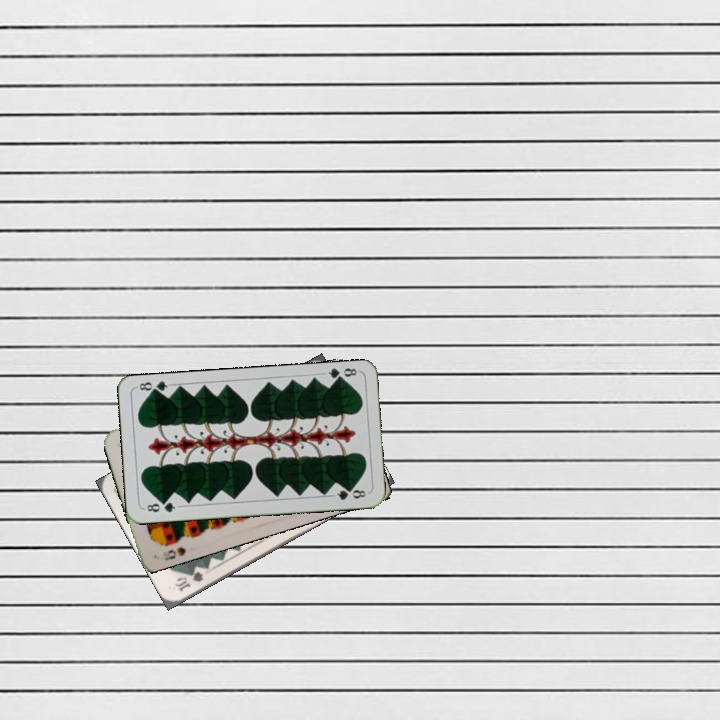G10: (171, 567, 206, 594)
G8: (320, 364, 361, 385), (141, 497, 181, 515)
S8: (154, 542, 188, 563)
